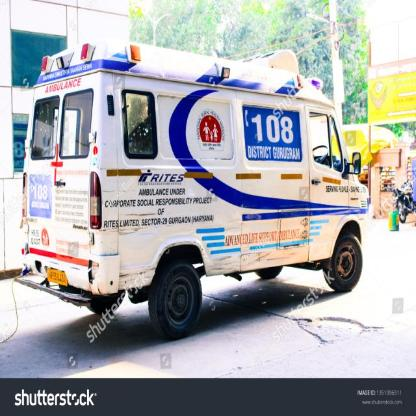priority: (20, 40, 368, 335)
